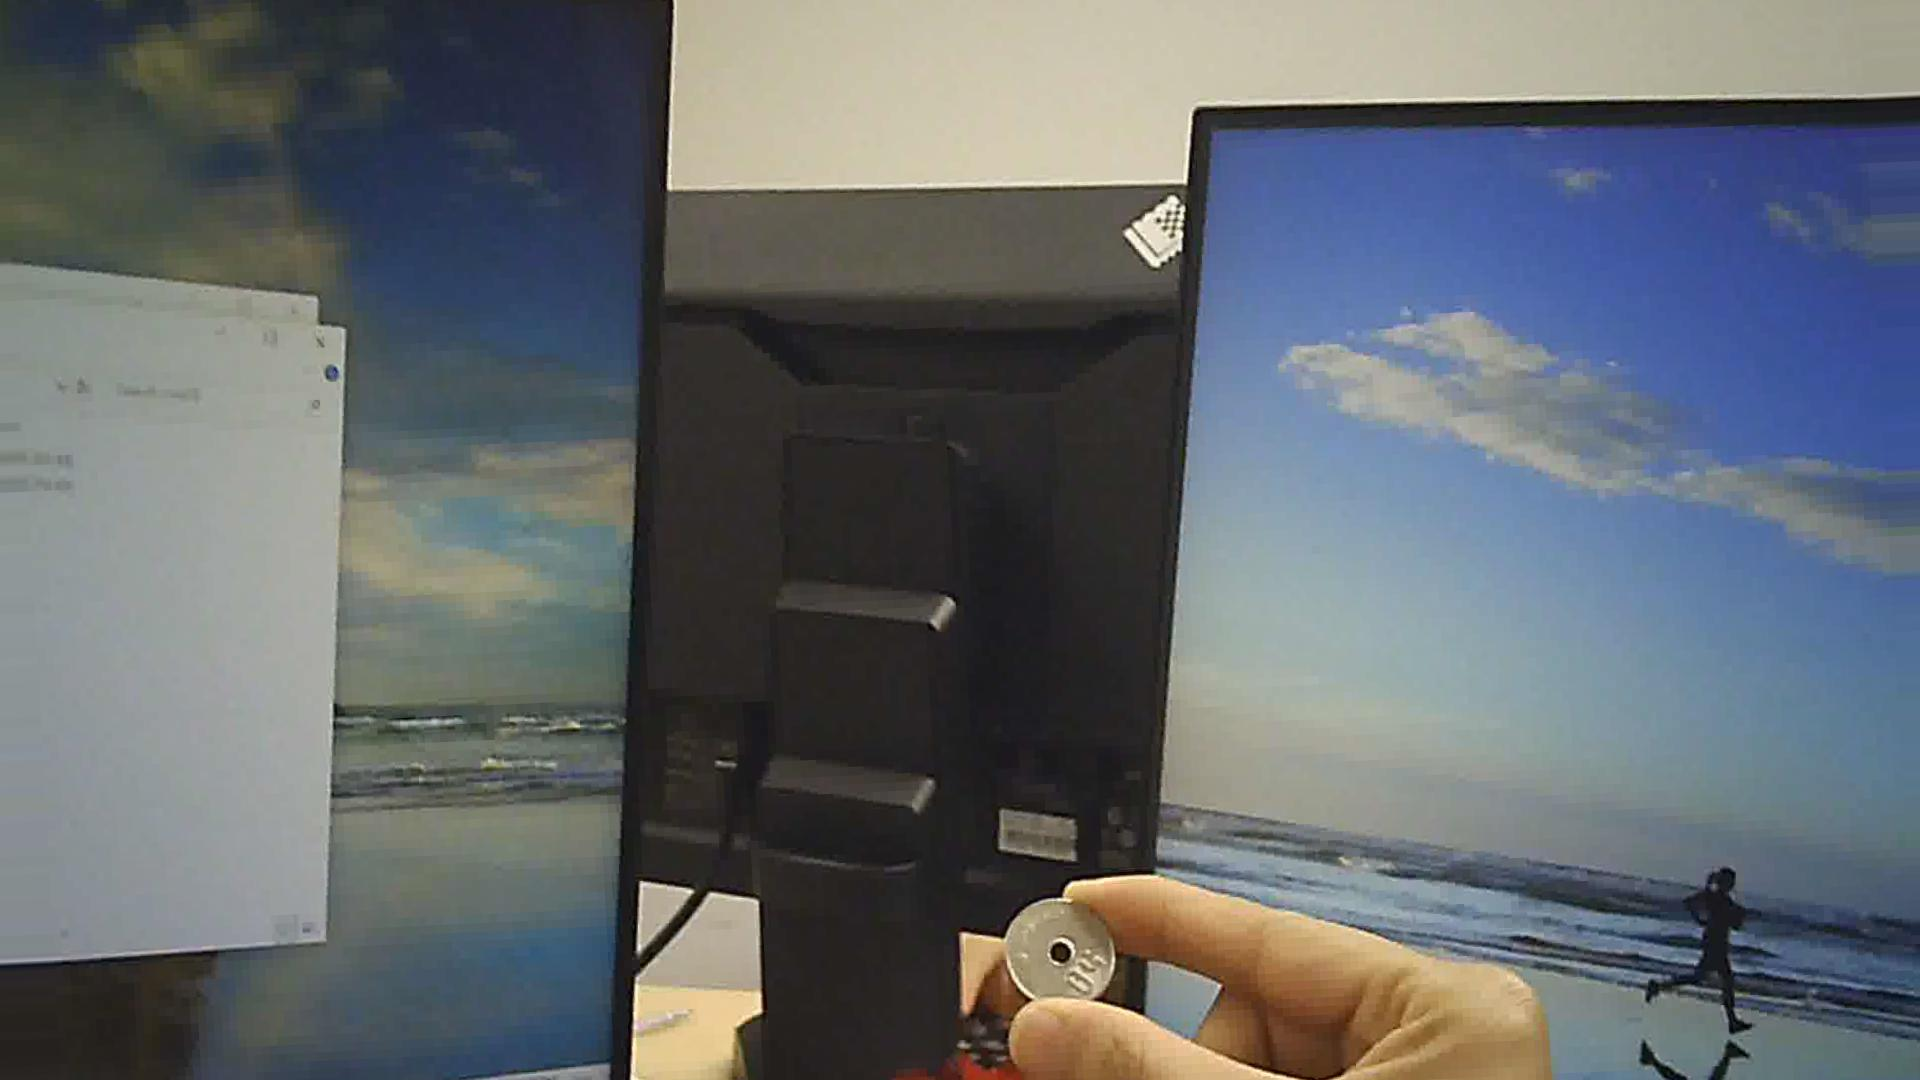50 Yen: (1001, 887, 1131, 994)
